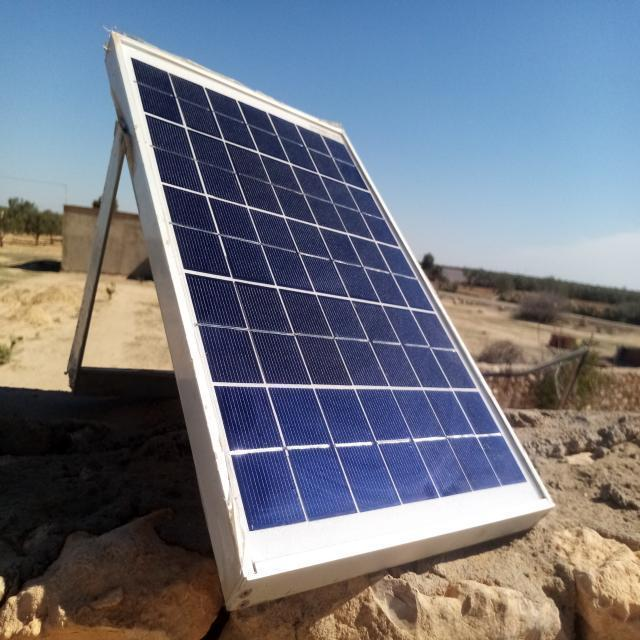Normal Solar Panel: (117, 37, 551, 576)
